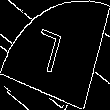L_S: (36, 26, 74, 84)
